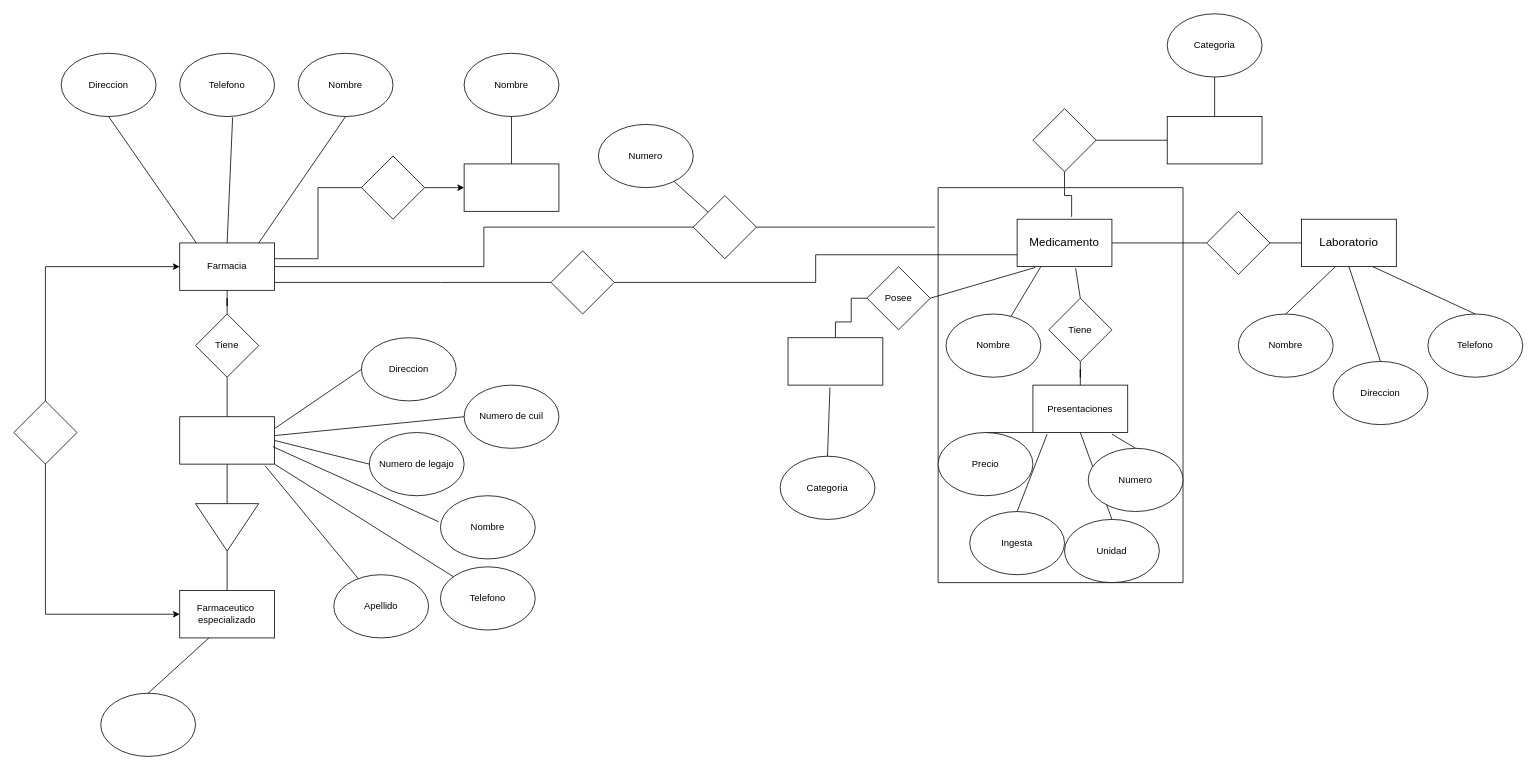
The diagram is 1537 pixels wide and 770 high, and some of its shapes have lost their labels. Here are the shapes that lost their labels. From the top down, the centre of each, then its label:
point (1064, 140): Se compone
point (1214, 140): Monodroga
point (393, 187): Se ubica
point (511, 187): Ciudad
point (724, 227): Stock
point (1238, 243): Comercializa
point (582, 282): Se encuentran
point (835, 361): Accion terapeutica
point (45, 432): Esta a cargo
point (227, 440): Empleado
point (227, 527): Es un
point (148, 724): Numero de matricula
